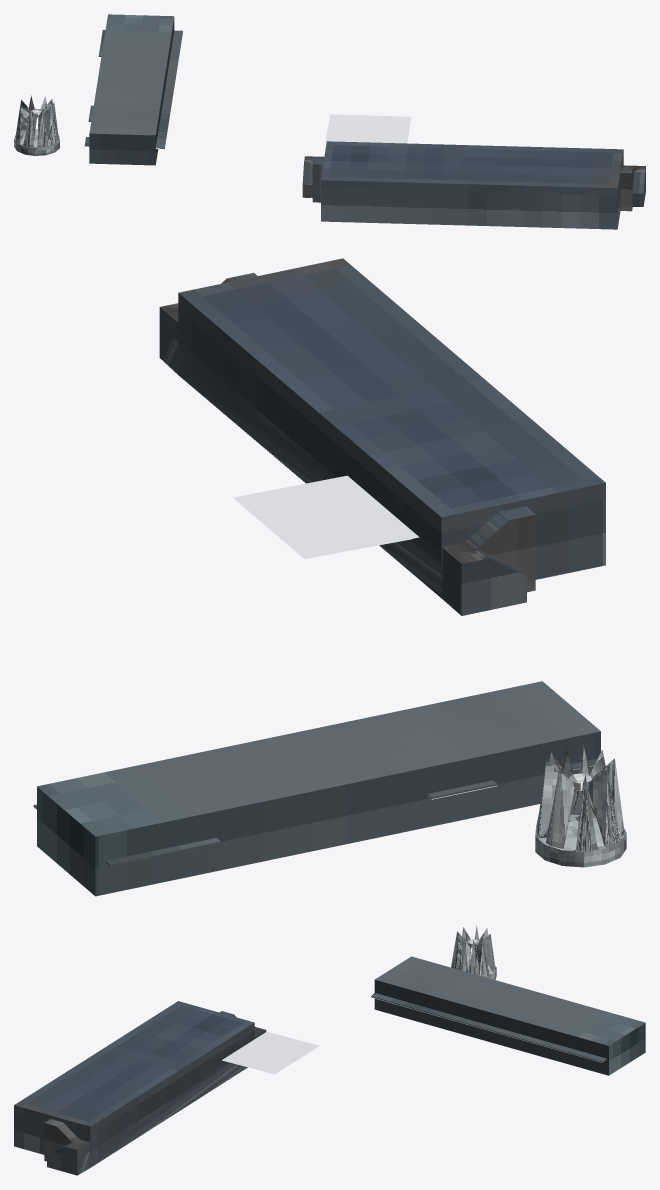
3 renders of one model, top to bottom at view 1: azimuth 30°, elevation 25°; view 2: azimuth 150°, elevation 25°; view 3: azimuth 270°, elevation 25°, orthographic. The views are drawn at different scales.
Visible parts, largest first — view 1: Buildings_建物パビリオン; view 2: Buildings_建物パビリオン; view 3: Buildings_建物パビリオン.
Part boxes in pixels (box(x1,y1,x2,y2)): Buildings_建物パビリオン: box(14, 14, 645, 229); Buildings_建物パビリオン: box(33, 258, 626, 896); Buildings_建物パビリオン: box(14, 925, 645, 1175).
Bounding box in the file's own units: 84.99 × 8.51 × 109.
4 materials, 3 textured.
